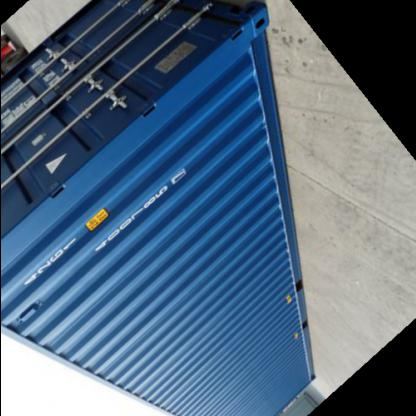Damage: (172, 4, 242, 34)
